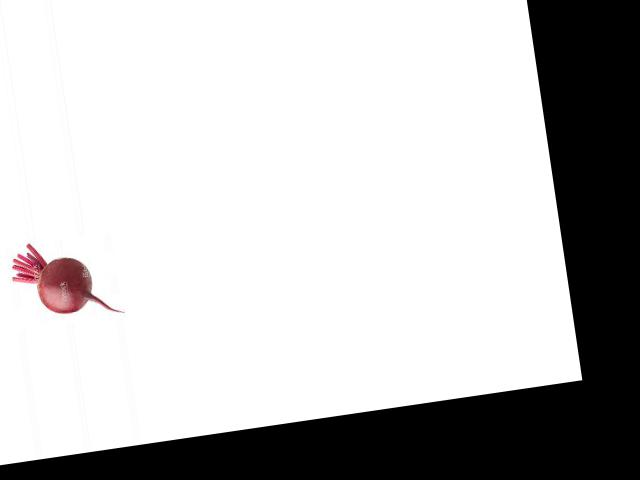beet: (7, 231, 123, 328)
